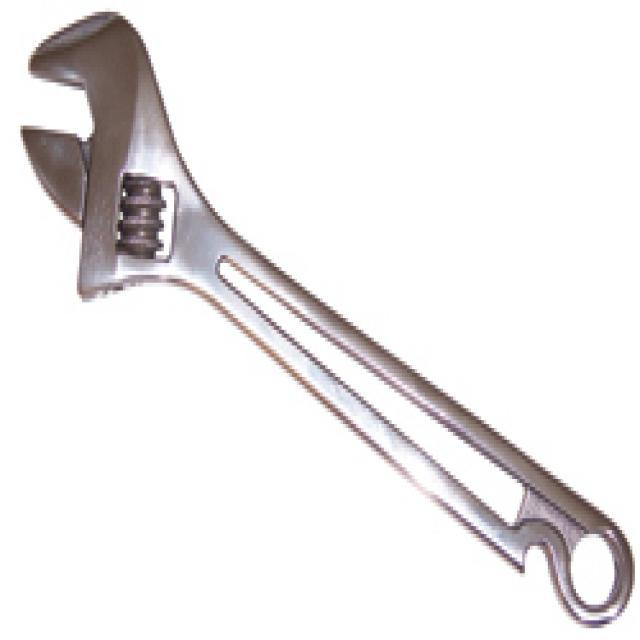wrench: (10, 0, 640, 620)
